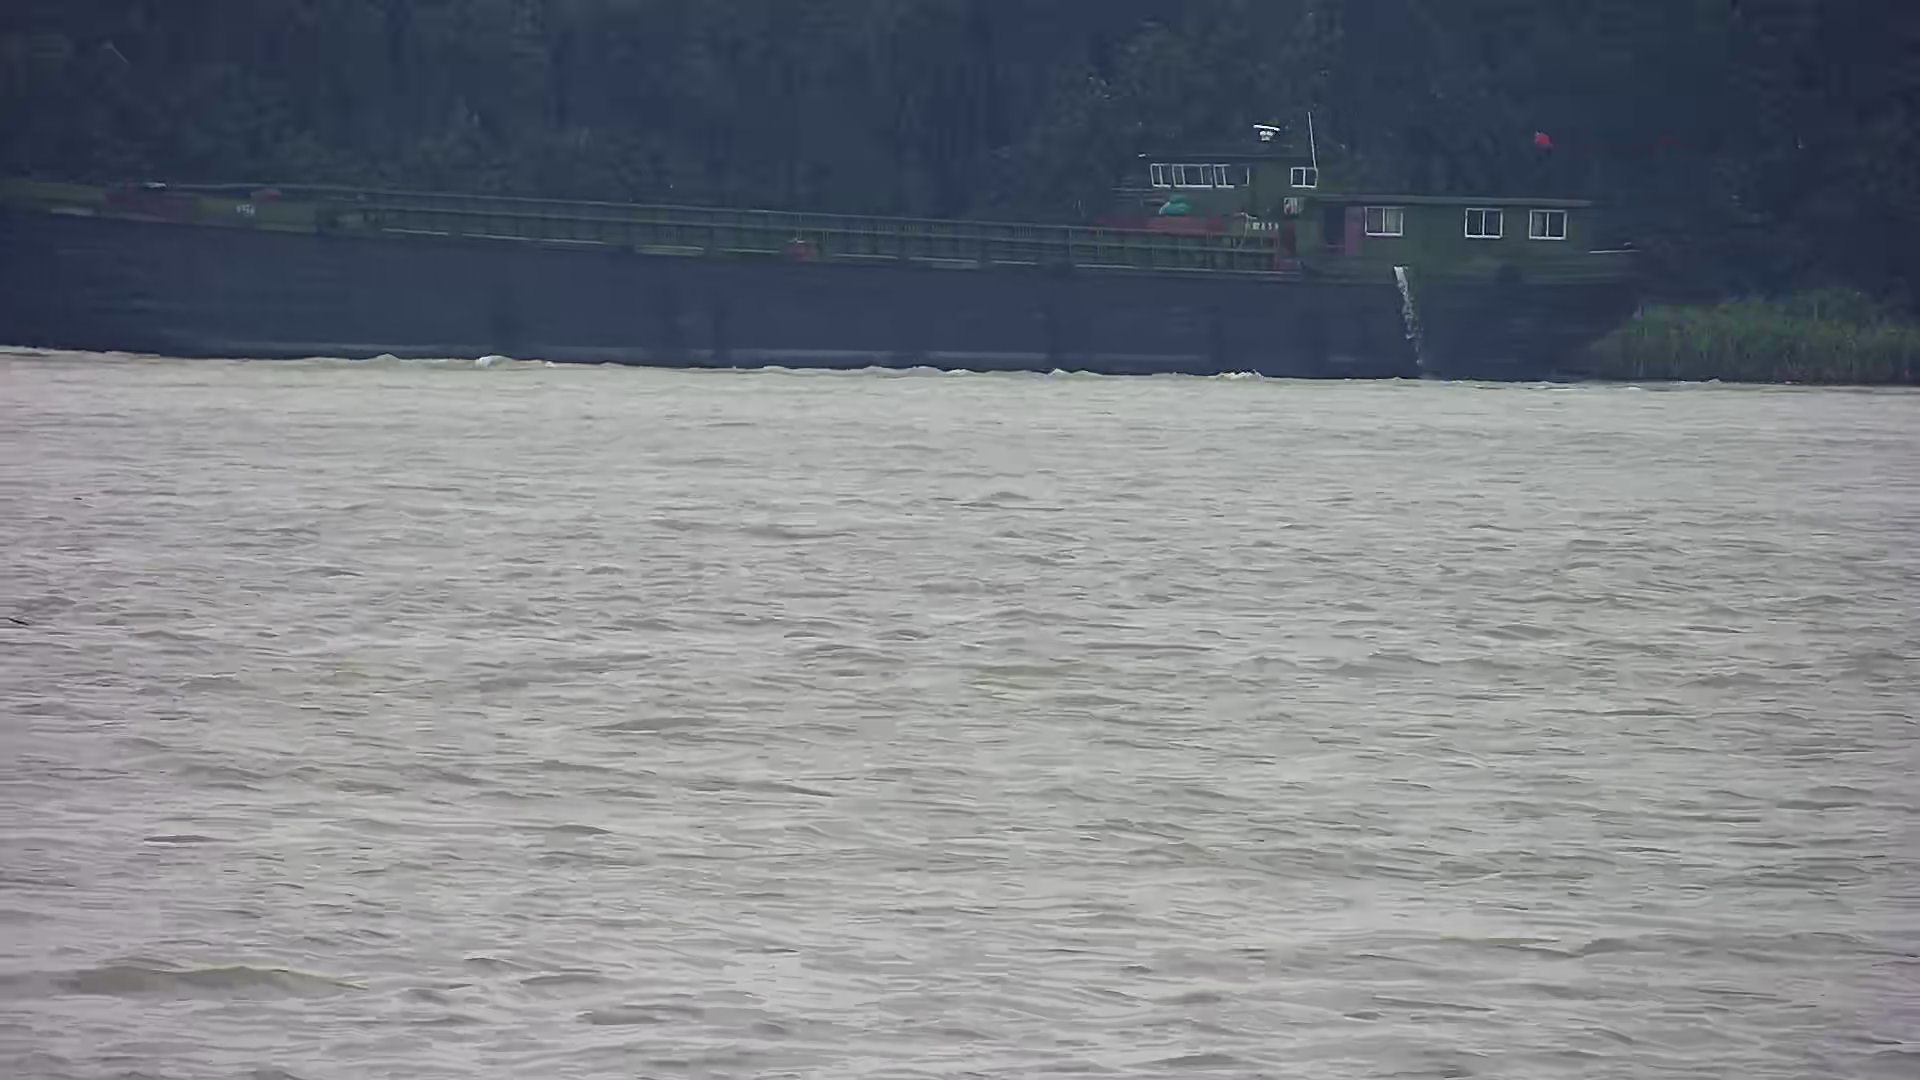ship: (1, 113, 1650, 396)
